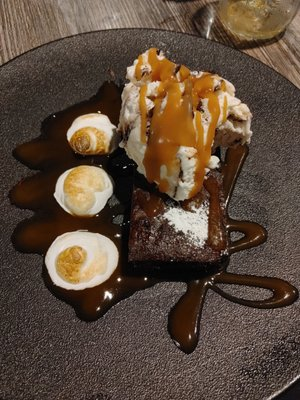pasta: (53, 165, 114, 217)
